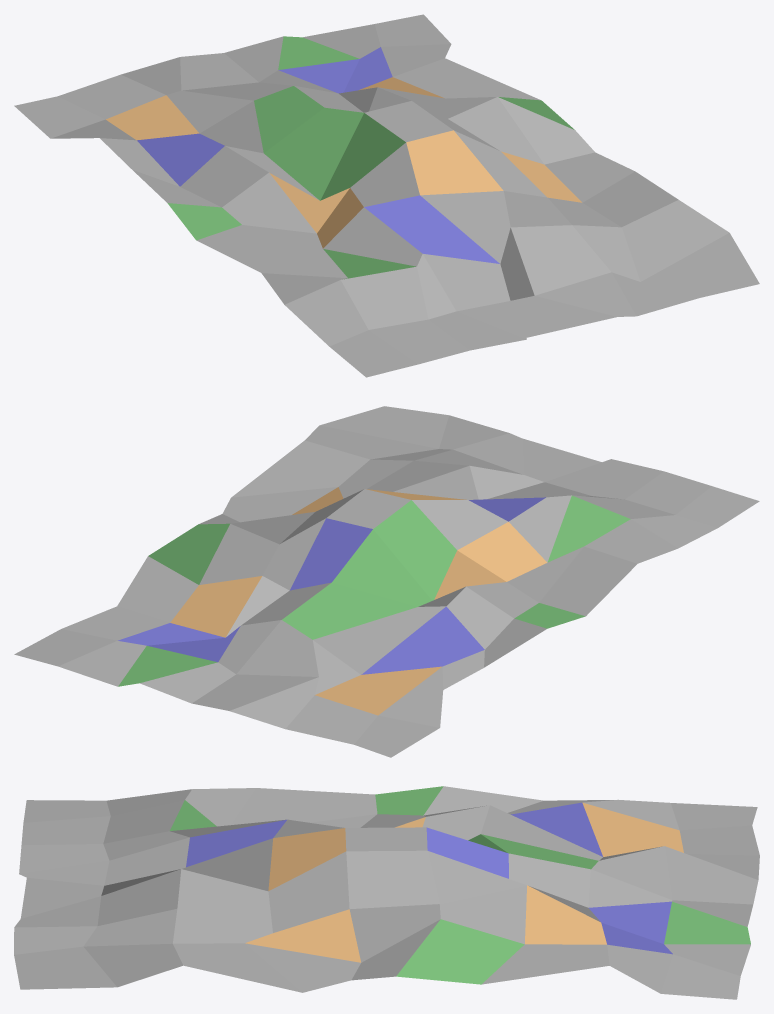
File: Trash.glb
3 renders of one model, top to bottom at view 1: azimuth 30°, elevation 25°; view 2: azimuth 150°, elevation 25°; view 3: azimuth 270°, elevation 25°, orthographic. The views are drawn at different scales.
Visible parts, largest first — view 1: Plane; view 2: Plane; view 3: Plane.
Boxes of the visible parts, box(x1,y1,x2,y2) form: Plane: box(14, 14, 759, 377); Plane: box(14, 406, 759, 757); Plane: box(14, 786, 759, 999).
Bounding box in the file's own units: 1.21 × 0.1949 × 1.9.
